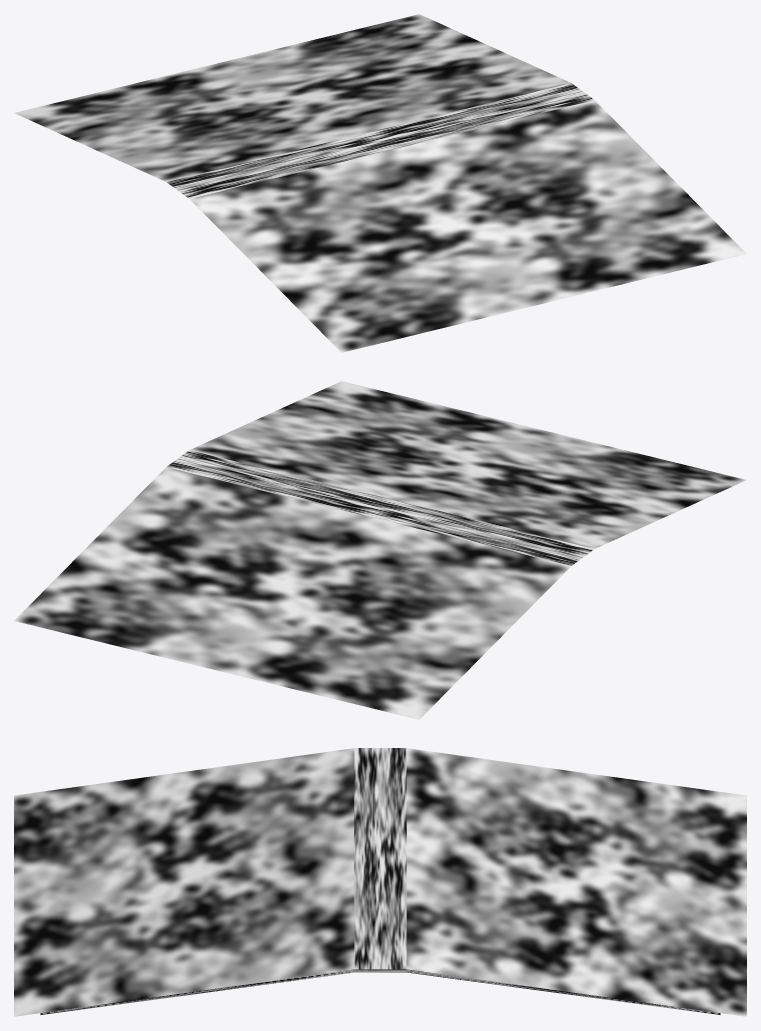
Rendered from spellbook.fbx.
The picture shows the model from 3 angles, top to bottom: view 1: azimuth 30°, elevation 25°; view 2: azimuth 150°, elevation 25°; view 3: azimuth 270°, elevation 25°; orthographic projection. The views are drawn at different scales.
Visible parts, largest first — view 1: Spellbook; view 2: Spellbook; view 3: Spellbook.
Boxes of the visible parts, box(x1,y1,x2,y2) form: Spellbook: box(14, 14, 746, 352); Spellbook: box(14, 381, 746, 719); Spellbook: box(14, 748, 746, 1016).
Bounding box in the file's own units: 20 × 2.4 × 28.
